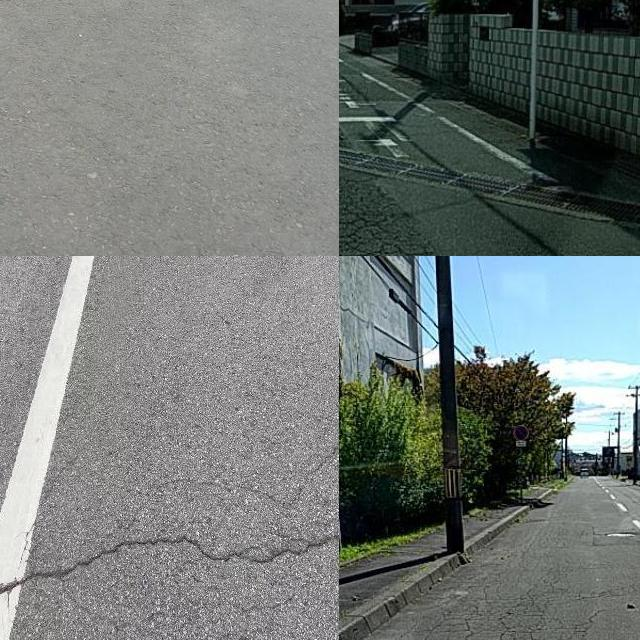Melintang: (0, 520, 339, 602)
